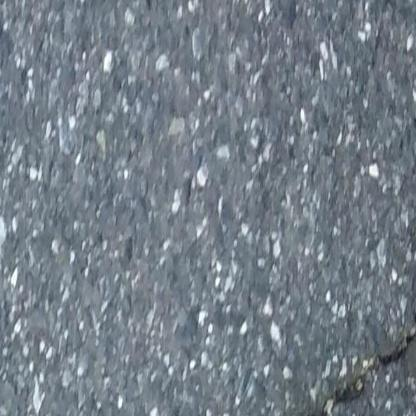Cracks: (281, 285, 416, 416)
